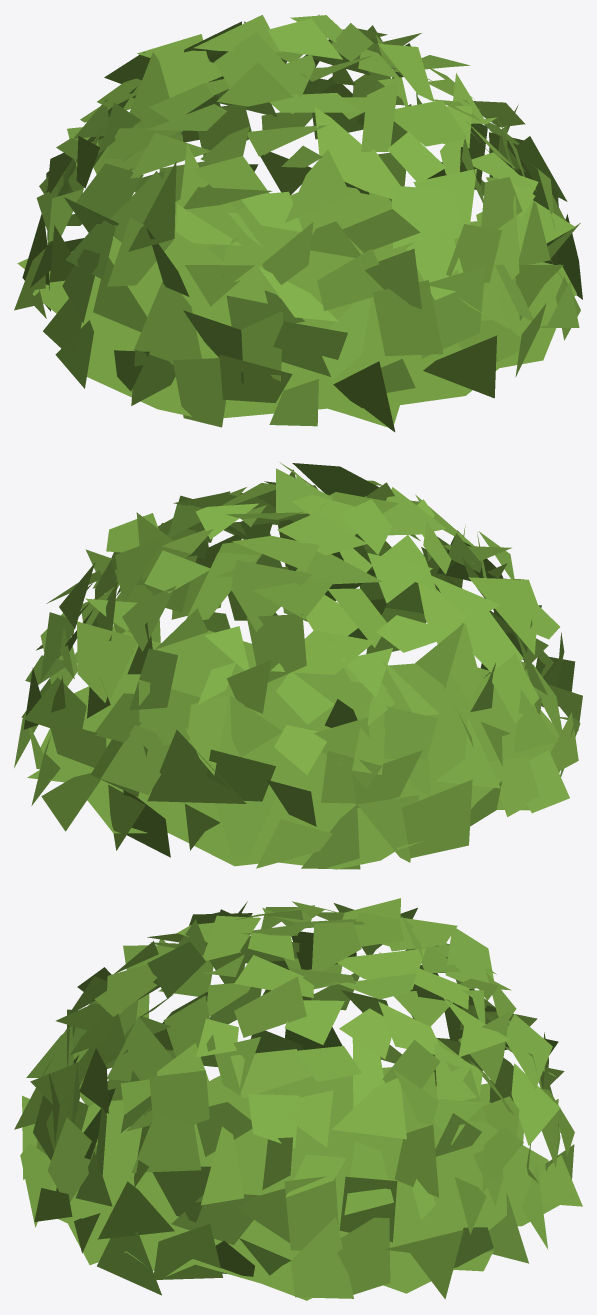
The model's file is bushonlyleaves.fbx.
3 renders of one model, top to bottom at view 1: azimuth 30°, elevation 25°; view 2: azimuth 150°, elevation 25°; view 3: azimuth 270°, elevation 25°, orthographic.
Visible parts, largest first — view 1: Cube.005; view 2: Cube.005; view 3: Cube.005.
Boxes of the visible parts, x1,y1,x2,y2 form: Cube.005: (14, 14, 582, 431); Cube.005: (14, 462, 582, 869); Cube.005: (14, 898, 582, 1300).
Size of the model in its own units: 100 by 53.71 by 100.
